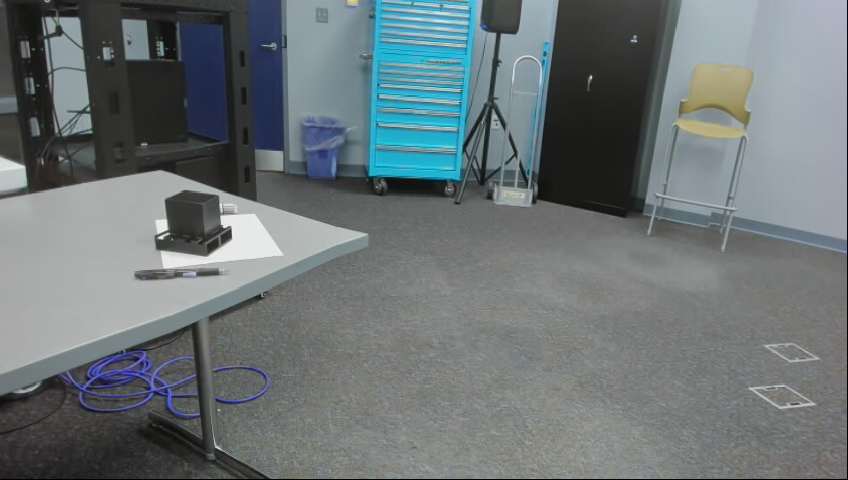black pallet: (151, 185, 238, 256)
